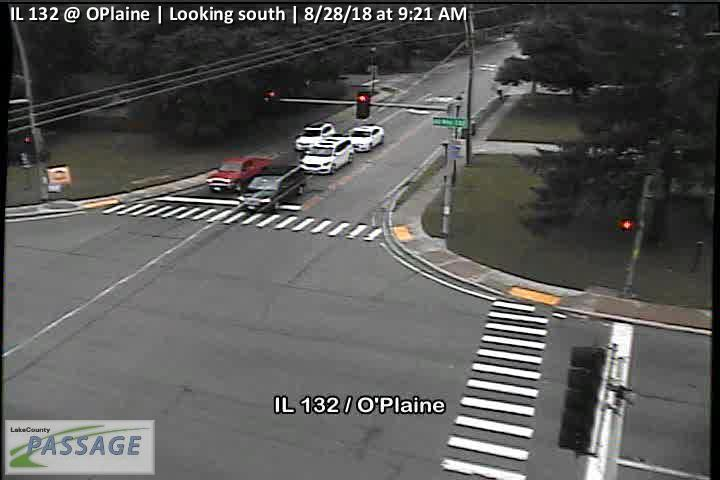SUV: (240, 165, 306, 213), (299, 137, 355, 174), (296, 121, 336, 152)
Sedan: (348, 124, 384, 152)
Truck: (206, 153, 273, 192)
